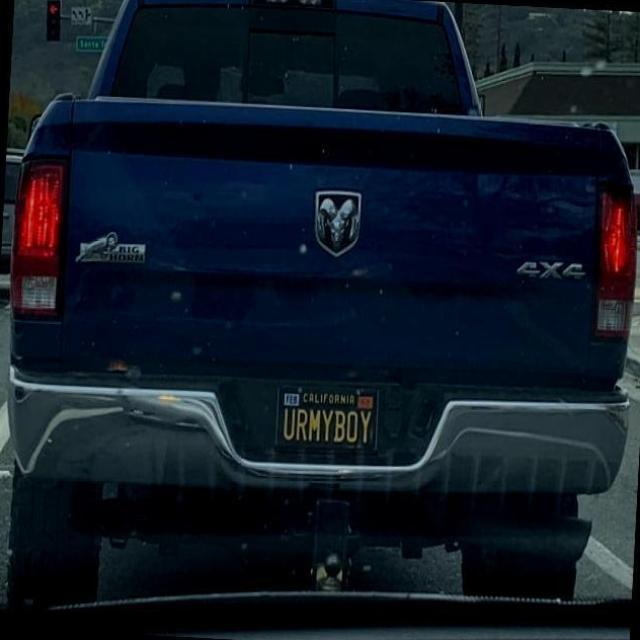license-plate: (277, 378, 387, 458)
